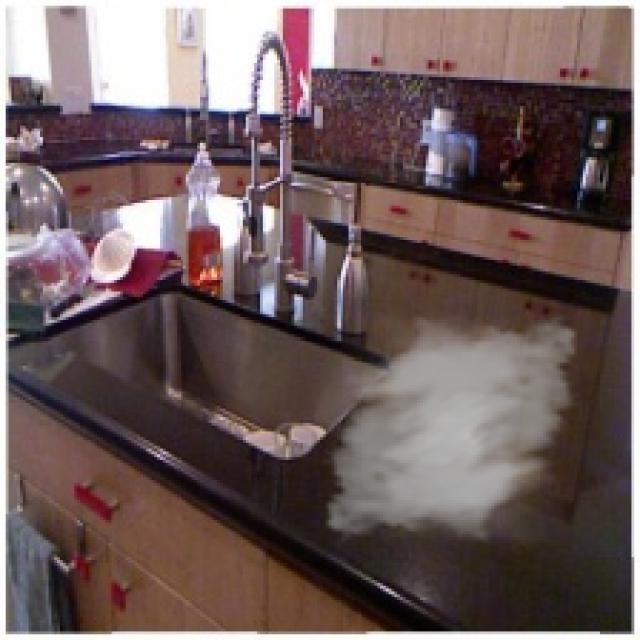Smoke: (314, 297, 589, 554)
